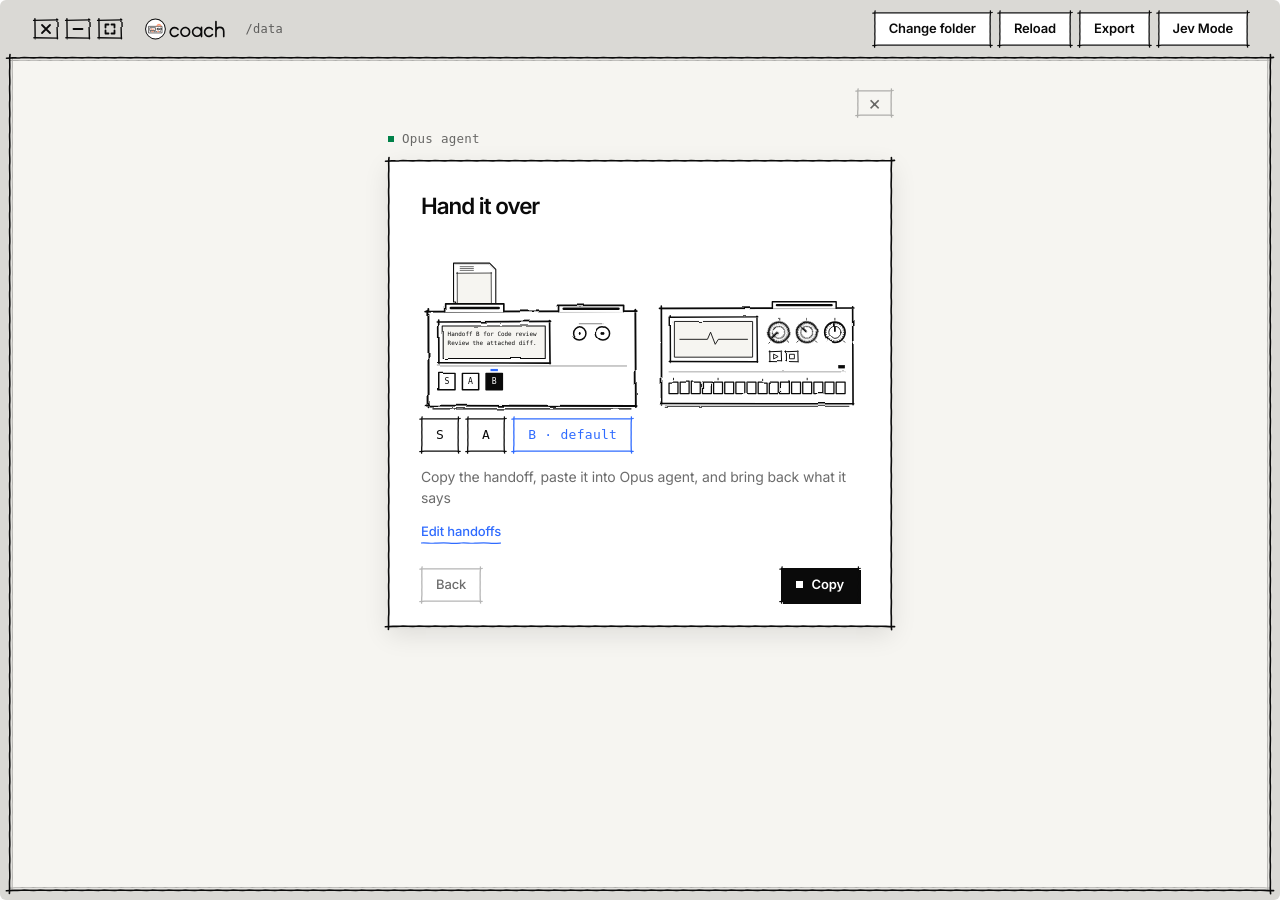
TestDeck with the handoff box › Edit handoffs opens the box for the badge and comes back to the test with the pick lit
expect the heading "Hand it over" is shown: met, box [421,192,539,219]
Click the button "A" at [486, 435], box [467,418,505,452]
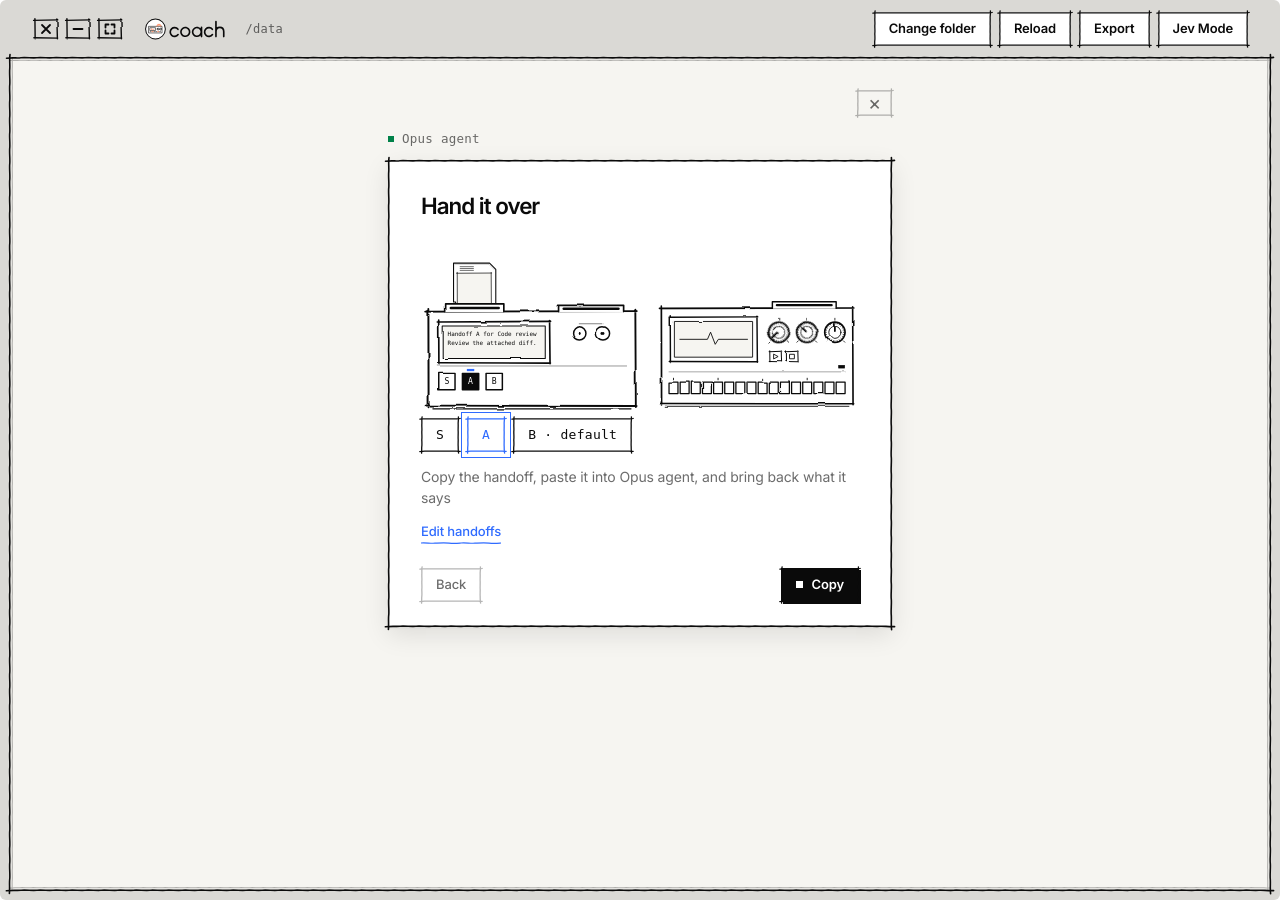
Click the button "Edit handoffs" at [461, 533], box [421,522,501,544]
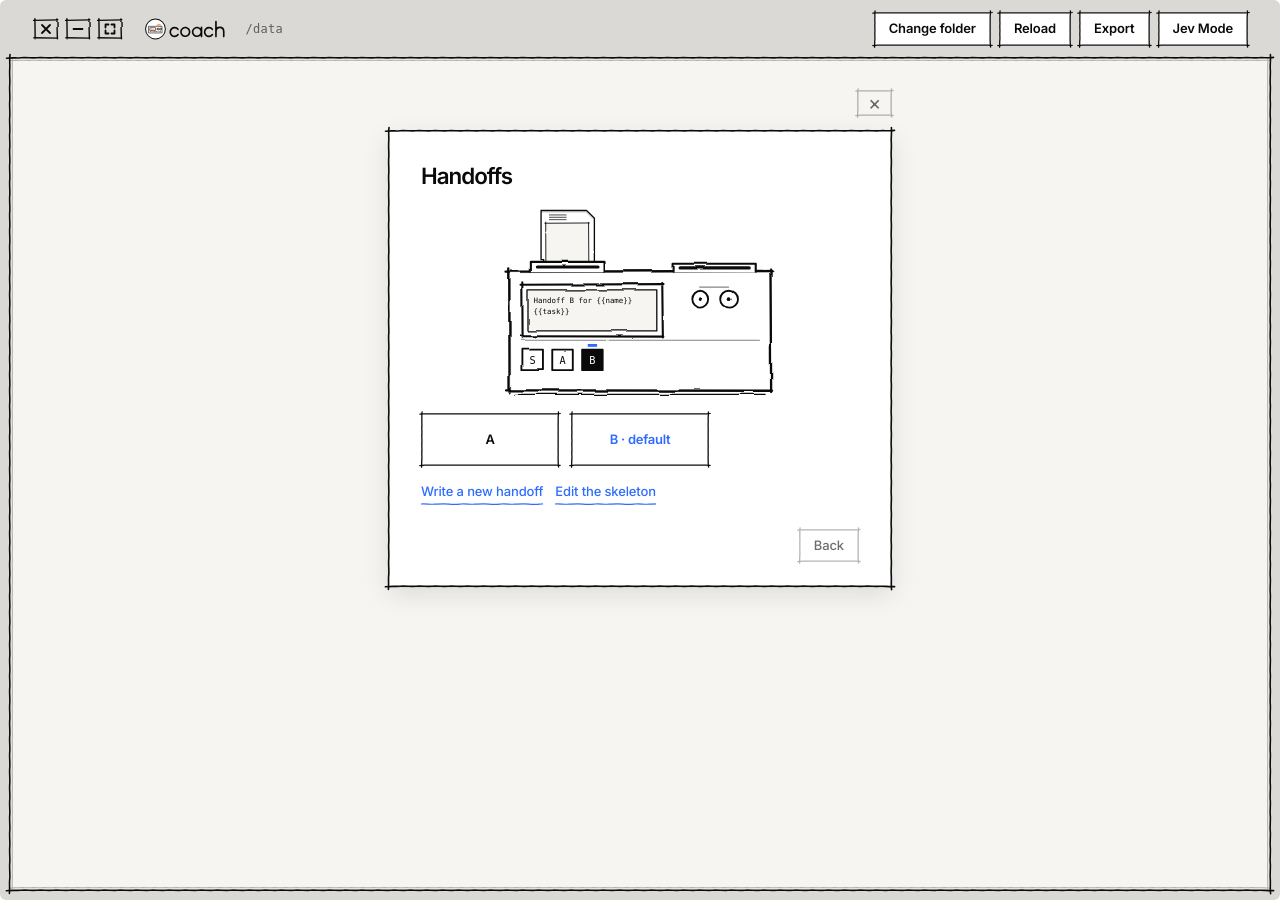
expect the heading "Handoffs" is shown: met, box [421,162,512,188]
Click the button named "Close" at [874, 102], box [857,90,892,116]
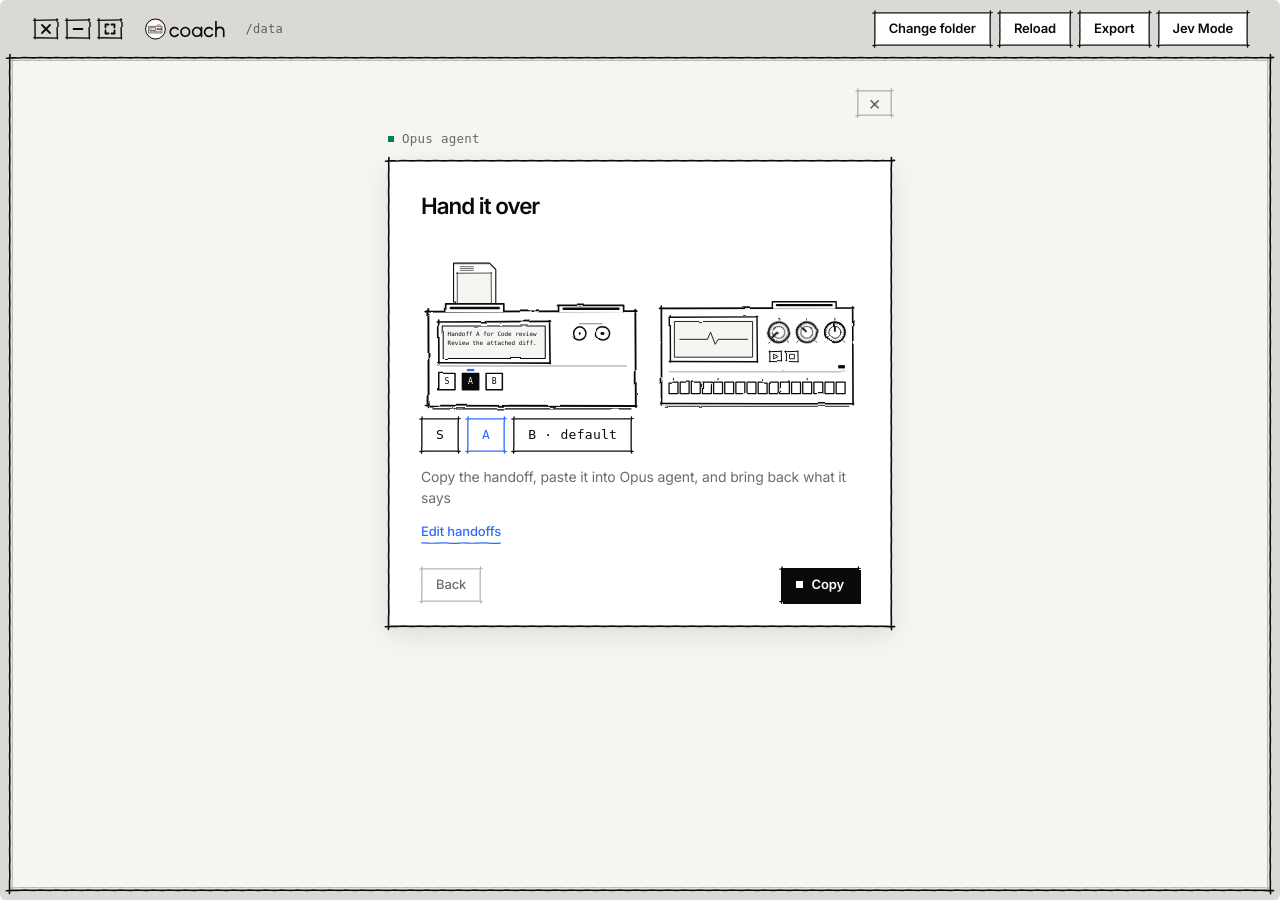
expect the heading "Hand it over" is shown: met, box [421,192,539,219]
